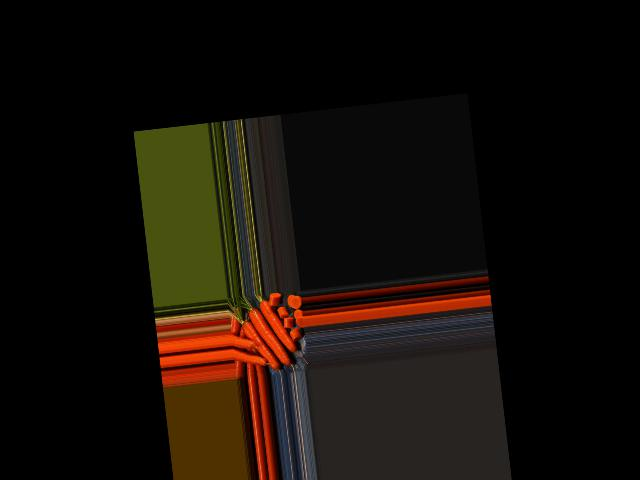carrot: (240, 317, 280, 374)
